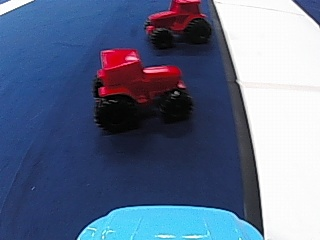tractor: (90, 46, 195, 132), (142, 0, 211, 47)
